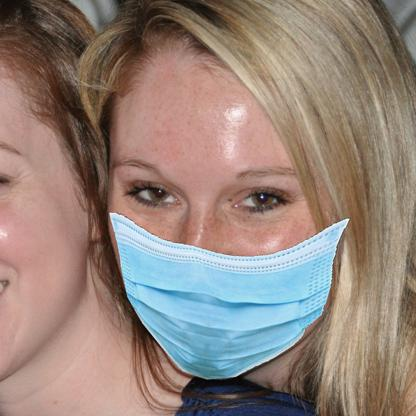mask: (105, 209, 335, 380)
